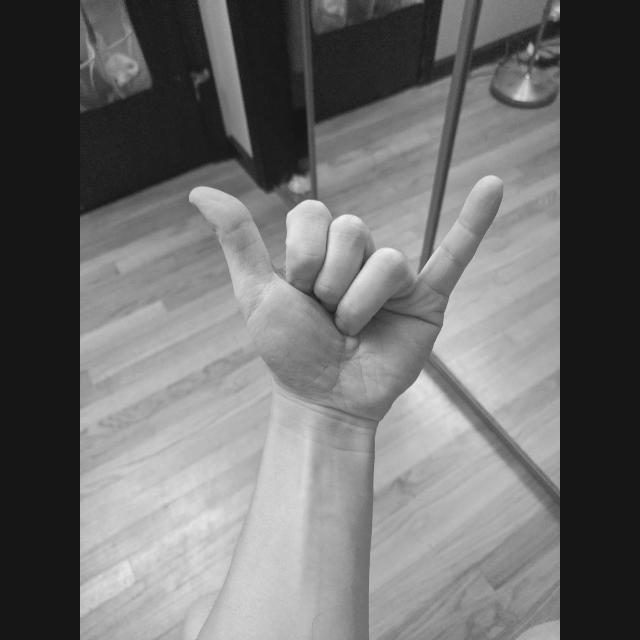Y: (185, 170, 510, 428)
